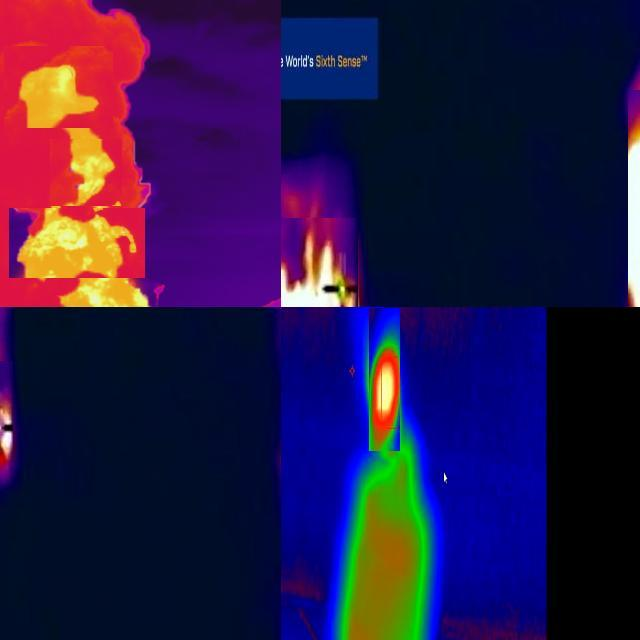fire: (9, 208, 145, 278), (282, 218, 358, 308), (13, 55, 100, 128), (50, 139, 122, 206), (369, 308, 400, 451), (40, 283, 172, 308), (1, 390, 19, 474)
